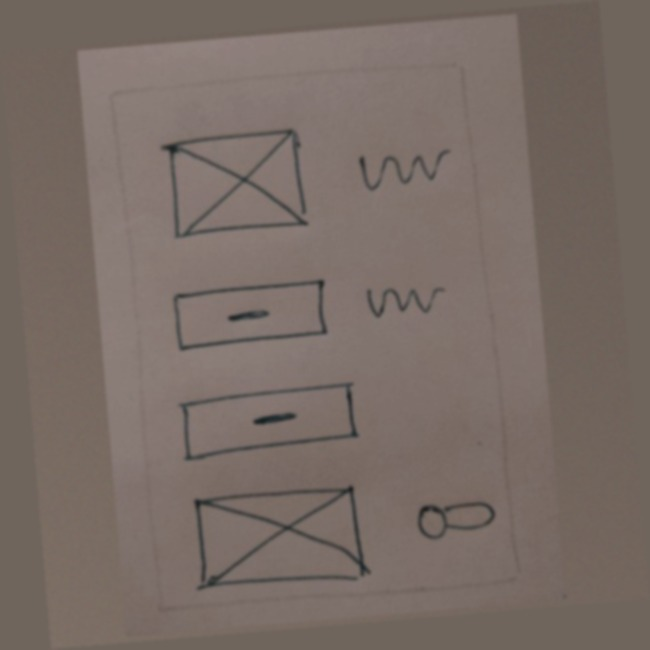image: (185, 479, 376, 601), (155, 120, 320, 248)
switch: (406, 485, 499, 551)
text: (355, 272, 454, 334), (350, 139, 455, 196)
text_input: (170, 378, 373, 473), (163, 270, 337, 359)
